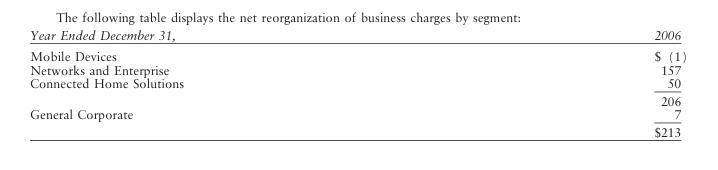table: (29, 28, 687, 139)
table column: (29, 28, 418, 139), (418, 28, 687, 139)
table row: (29, 28, 687, 46), (29, 46, 687, 63), (29, 92, 687, 108), (29, 123, 687, 139), (29, 77, 687, 92), (29, 108, 687, 123), (29, 63, 687, 77)
